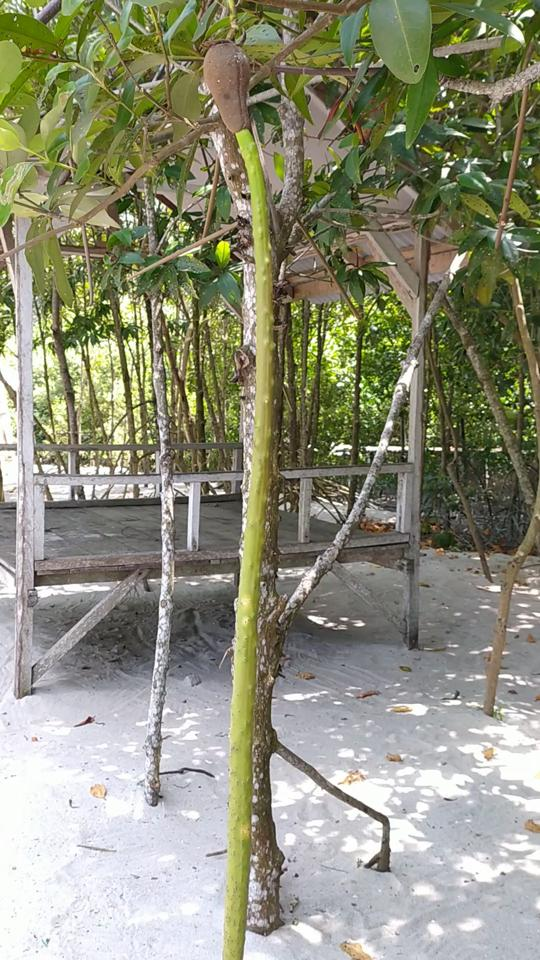mentah: (182, 38, 290, 955)
